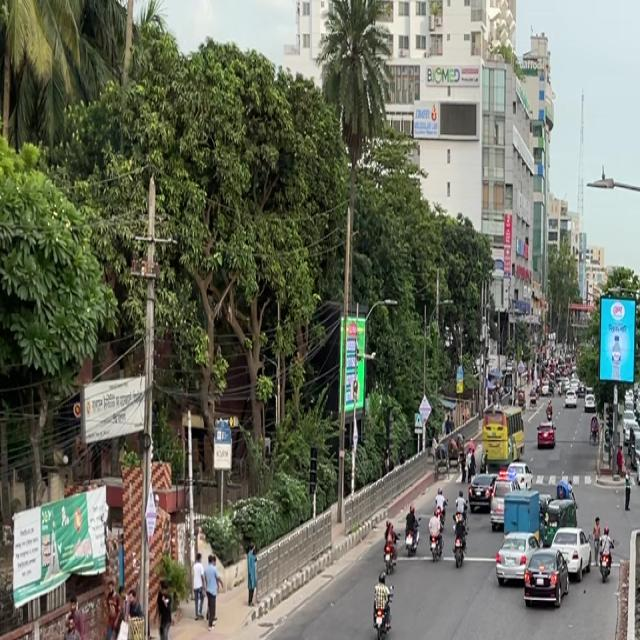bus: (480, 405, 526, 468)
car: (492, 528, 558, 604), (522, 542, 566, 616), (552, 519, 590, 580), (468, 469, 497, 514), (533, 420, 558, 456), (535, 639, 598, 640)
motorbike: (367, 568, 398, 640), (596, 525, 616, 587), (450, 513, 472, 569), (380, 516, 401, 573), (428, 506, 444, 569), (404, 503, 419, 559), (432, 485, 450, 527), (456, 493, 472, 530), (336, 635, 377, 640)
van: (501, 485, 543, 547)
